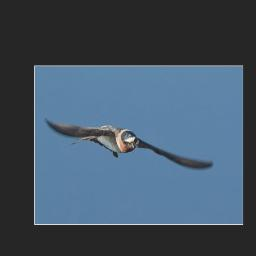Swallow: (45, 114, 214, 168)
